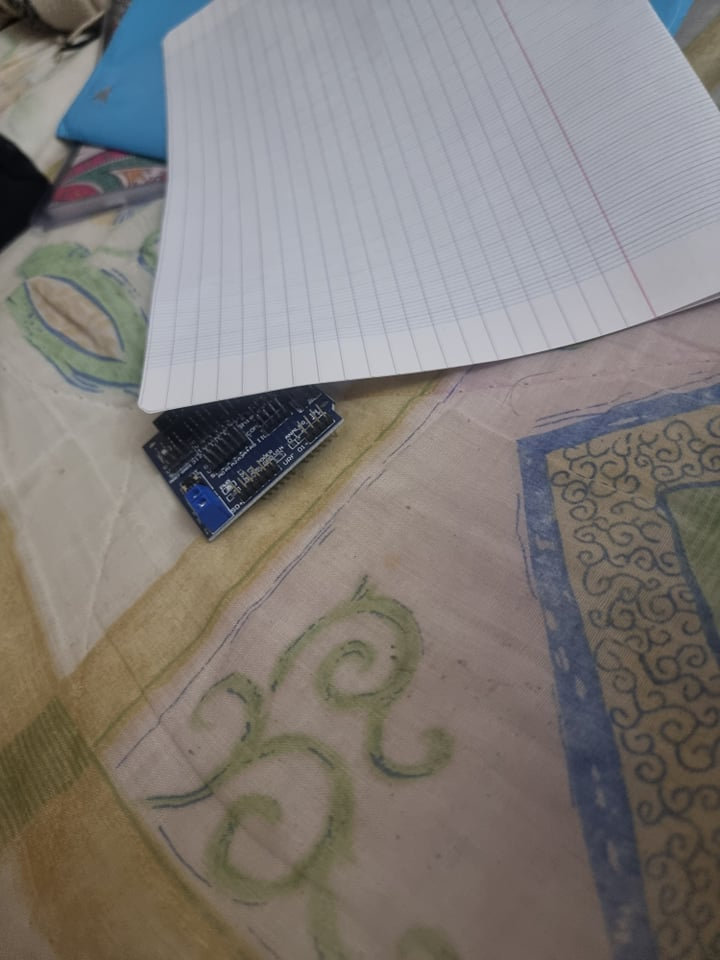5V EXPANSION: (143, 381, 342, 543)
